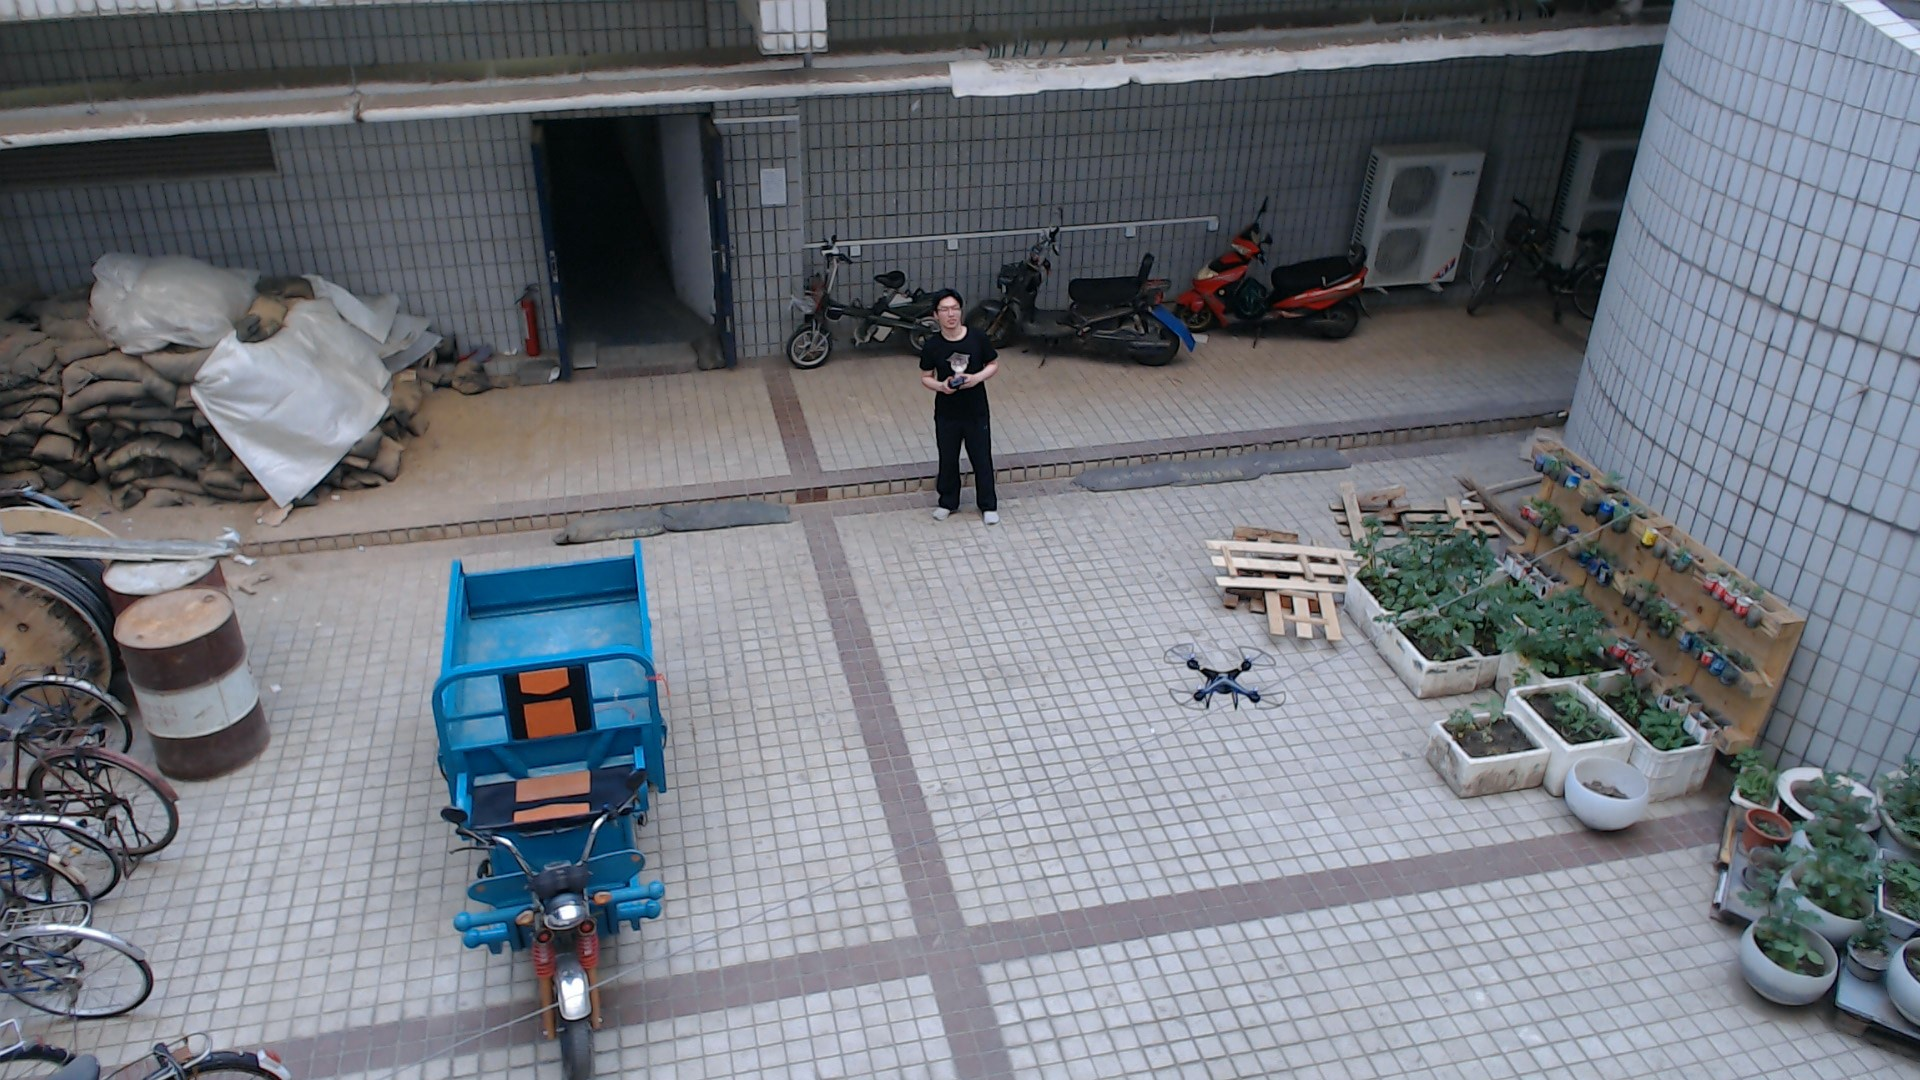drone: (1148, 603, 1301, 736)
person: (908, 273, 1025, 538)
